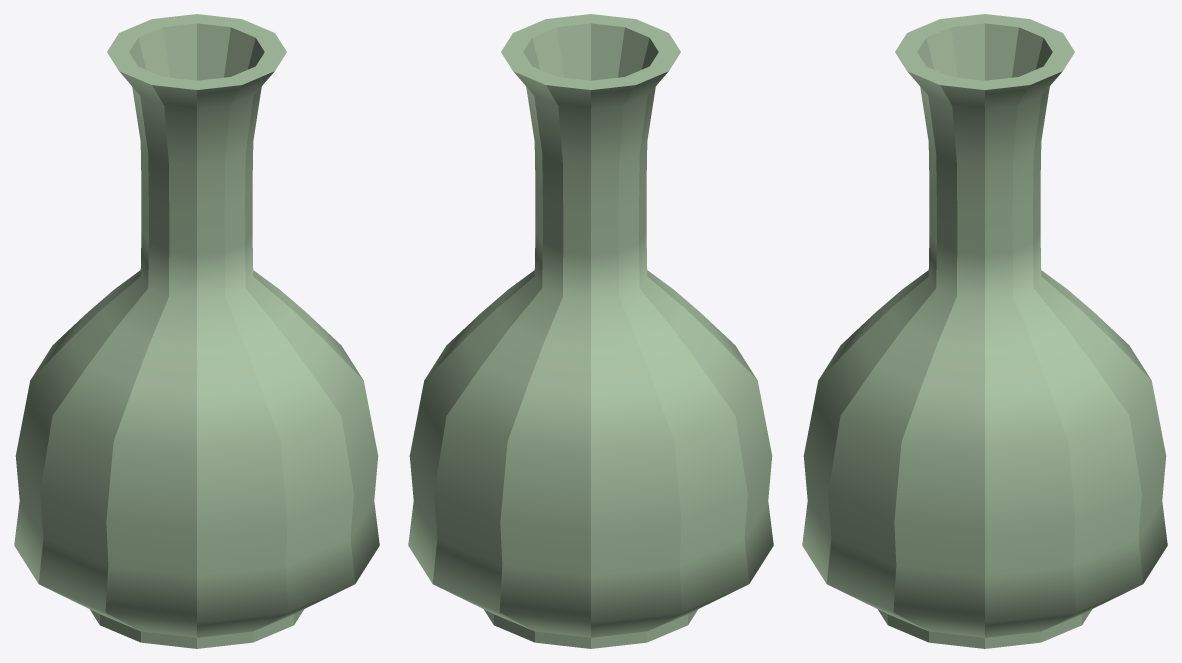
The model's file is VRVase.fbx.
3 views of the same model, side by side, from view 1: azimuth 30°, elevation 25°; view 2: azimuth 150°, elevation 25°; view 3: azimuth 270°, elevation 25° (orthographic).
Visible parts, largest first — view 1: pCylinder10; view 2: pCylinder10; view 3: pCylinder10.
Part boxes in pixels (bbox=[...]): pCylinder10: bbox=[14, 14, 379, 648]; pCylinder10: bbox=[408, 14, 773, 648]; pCylinder10: bbox=[802, 14, 1167, 648].
Bounding box in the file's own units: 2 × 3.32 × 2.
